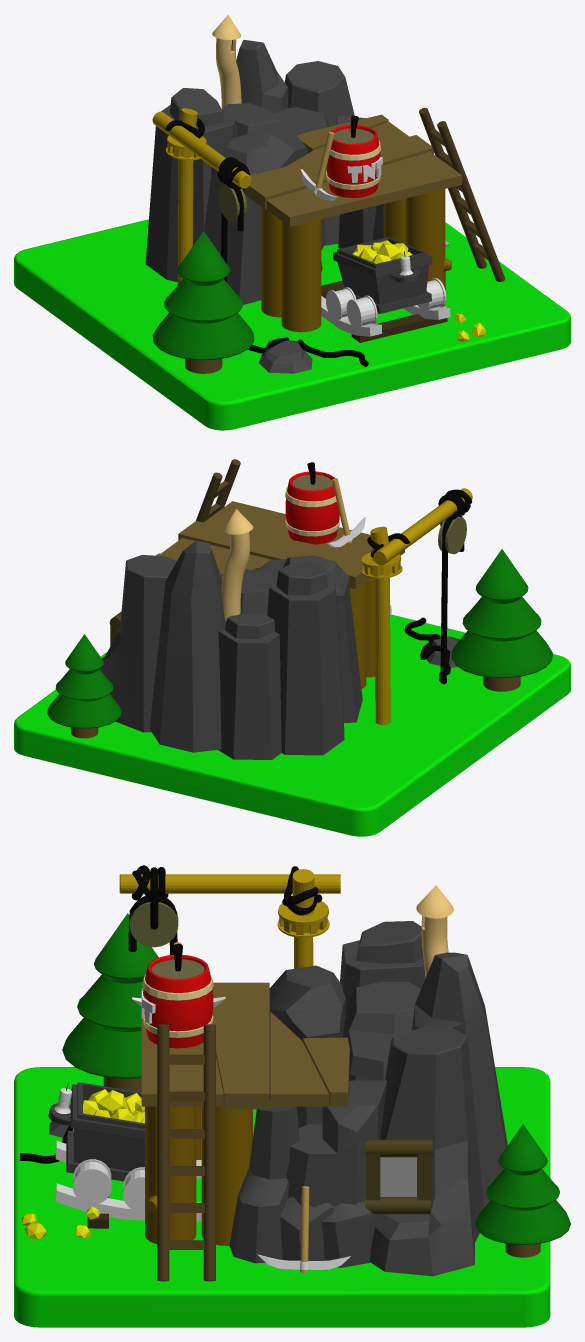
The model's file is Gmrockfixed.fbx.
The picture shows the model from 3 angles, top to bottom: view 1: azimuth 30°, elevation 25°; view 2: azimuth 150°, elevation 25°; view 3: azimuth 270°, elevation 25°; orthographic projection. The views are drawn at different scales.
Parts seen in each view (by area): view 1: Base, Woodtop, Treegreen2, Rocks3, Rock1, Log1 (×2), Log2, Minecart, Cranepole1, Rocks2, Ladder, Rocks5 (+15 smaller); view 2: Base, Rocks5, Rocks3, Rocks6, Treegreen2, Rocks2, Woodtop, Cranepole1, Treegreen, Rock1, polySurface36, polySurface20 (+9 smaller); view 3: Base, Rocks2, Woodtop, Ladder, Treegreen2, Rocks5, Rocks7, Rocks4, Treegreen, Cranepole1, Rock1, Rocks1 (+20 smaller).
Boxes of the visible parts, <box> form: Base: <box>14,219,570,430</box>; Woodtop: <box>244,114,462,226</box>; Treegreen2: <box>152,231,254,360</box>; Rocks3: <box>145,88,237,282</box>; Rock1: <box>204,131,322,304</box>; Log1 (×2): <box>261,189,451,317</box>; Log2: <box>281,219,321,332</box>; Minecart: <box>333,237,432,313</box>; Cranepole1: <box>152,108,251,284</box>; Rocks2: <box>285,61,354,245</box>; Ladder: <box>419,107,505,281</box>; Rocks5: <box>236,39,325,249</box>; Base: <box>14,614,570,836</box>; Rocks5: <box>150,541,226,752</box>; Rocks3: <box>267,560,344,755</box>; Rocks6: <box>218,613,281,759</box>; Treegreen2: <box>451,549,552,678</box>; Rocks2: <box>99,555,176,732</box>; Woodtop: <box>156,501,404,589</box>; Cranepole1: <box>361,488,472,724</box>; Treegreen: <box>47,634,121,728</box>; Rock1: <box>255,555,362,722</box>; polySurface36: <box>285,471,339,544</box>; polySurface20: <box>221,509,253,621</box>; Base: <box>14,1067,550,1327</box>; Rocks2: <box>370,1026,484,1276</box>; Woodtop: <box>141,982,349,1109</box>; Ladder: <box>157,1024,215,1281</box>; Treegreen2: <box>62,913,158,1078</box>; Rocks5: <box>412,952,507,1207</box>; Rocks7: <box>286,1080,386,1206</box>; Rocks4: <box>229,1100,299,1263</box>; Treegreen: <box>475,1124,570,1244</box>; Cranepole1: <box>119,869,340,968</box>; Rock1: <box>269,965,345,1127</box>; Rocks1: <box>343,981,420,1080</box>.
Bounding box in the file's own units: 14.16 × 9.21 × 14.23.
